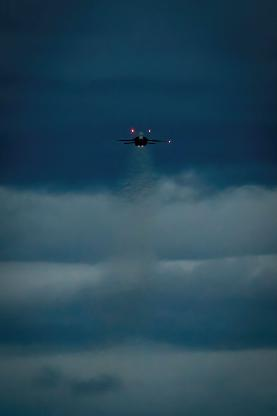F15: (111, 129, 170, 147)
